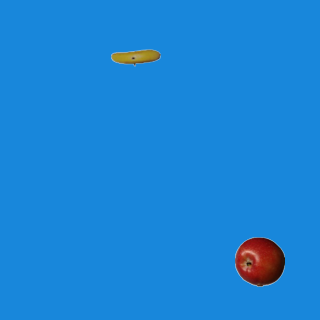Apple Braeburn: (234, 236, 284, 286)
Banana: (110, 32, 160, 82)
